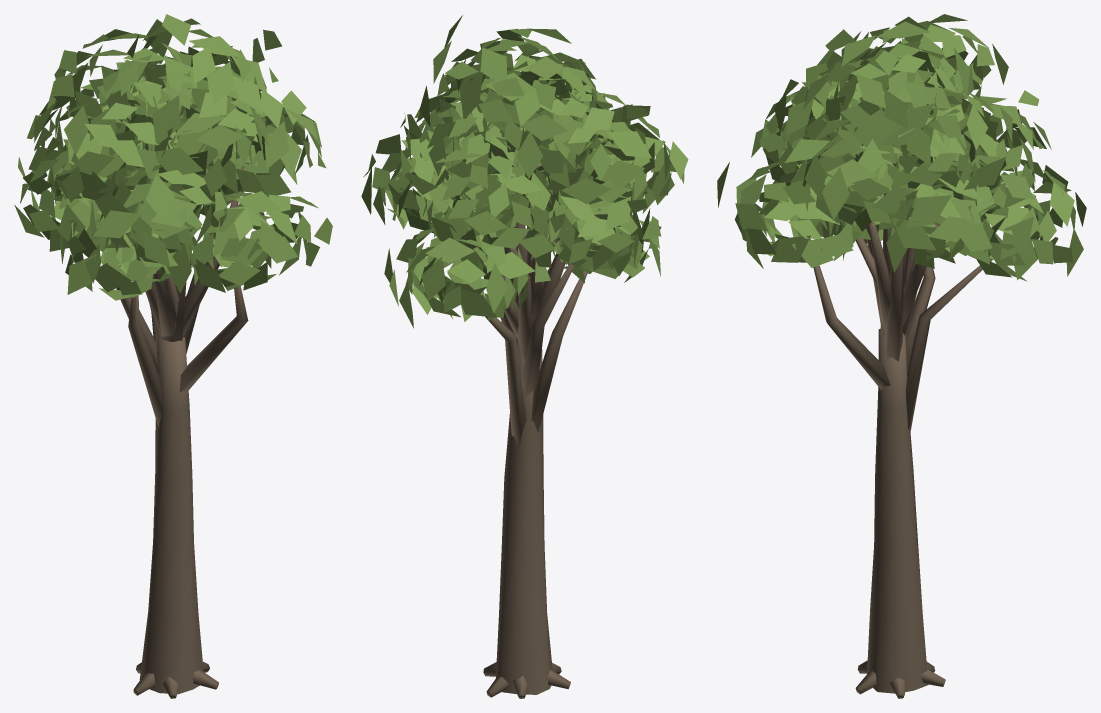
File: oak-tall.glb
3 views of the same model, side by side, from view 1: azimuth 30°, elevation 25°; view 2: azimuth 150°, elevation 25°; view 3: azimuth 270°, elevation 25° (orthographic).
Visible parts, largest first — view 1: tree_oak-tall_LOD0; view 2: tree_oak-tall_LOD0; view 3: tree_oak-tall_LOD0.
Part boxes in pixels (box(x1,y1,x2,y2)): tree_oak-tall_LOD0: box(14, 14, 332, 698); tree_oak-tall_LOD0: box(361, 15, 688, 698); tree_oak-tall_LOD0: box(717, 14, 1086, 698).
Size of the model in its own units: 6.63 by 14.55 by 7.42.
